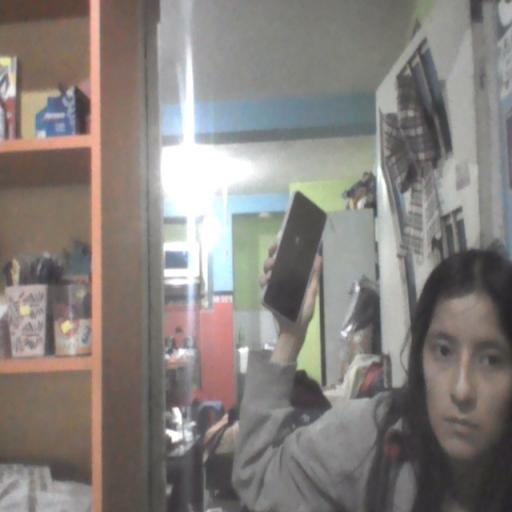phone: (258, 182, 330, 329)
